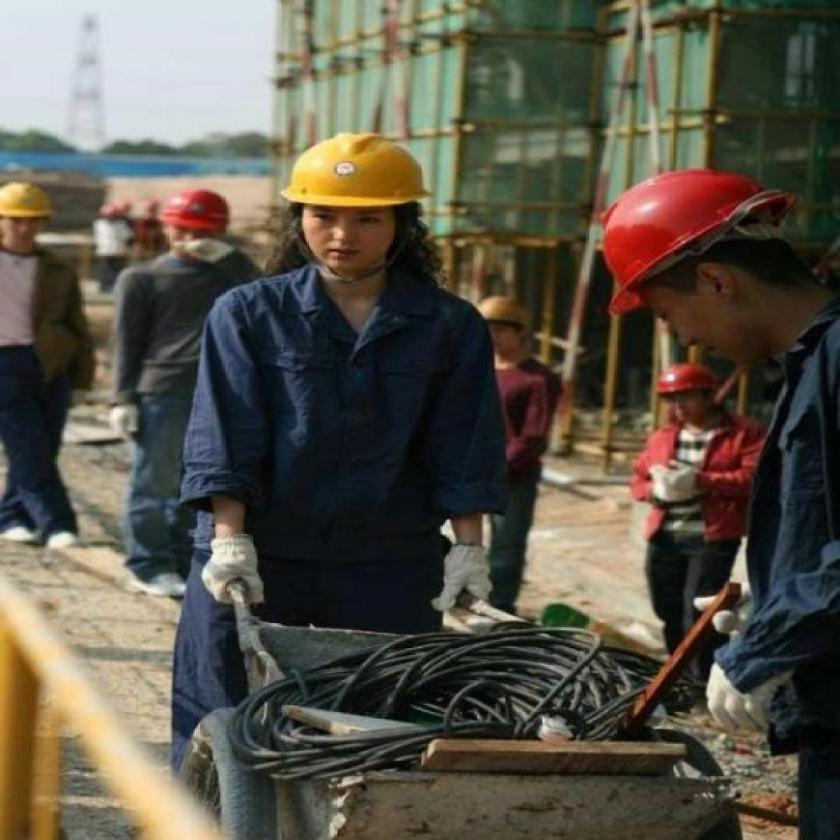Con_casco: (596, 134, 834, 385), (290, 128, 454, 289)
